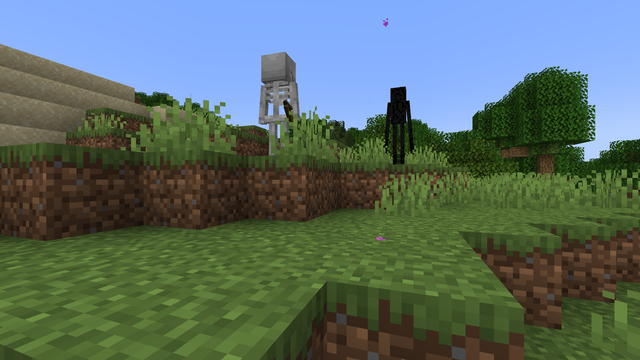endermens: (389, 83, 407, 149)
squelettes: (257, 50, 298, 138)
